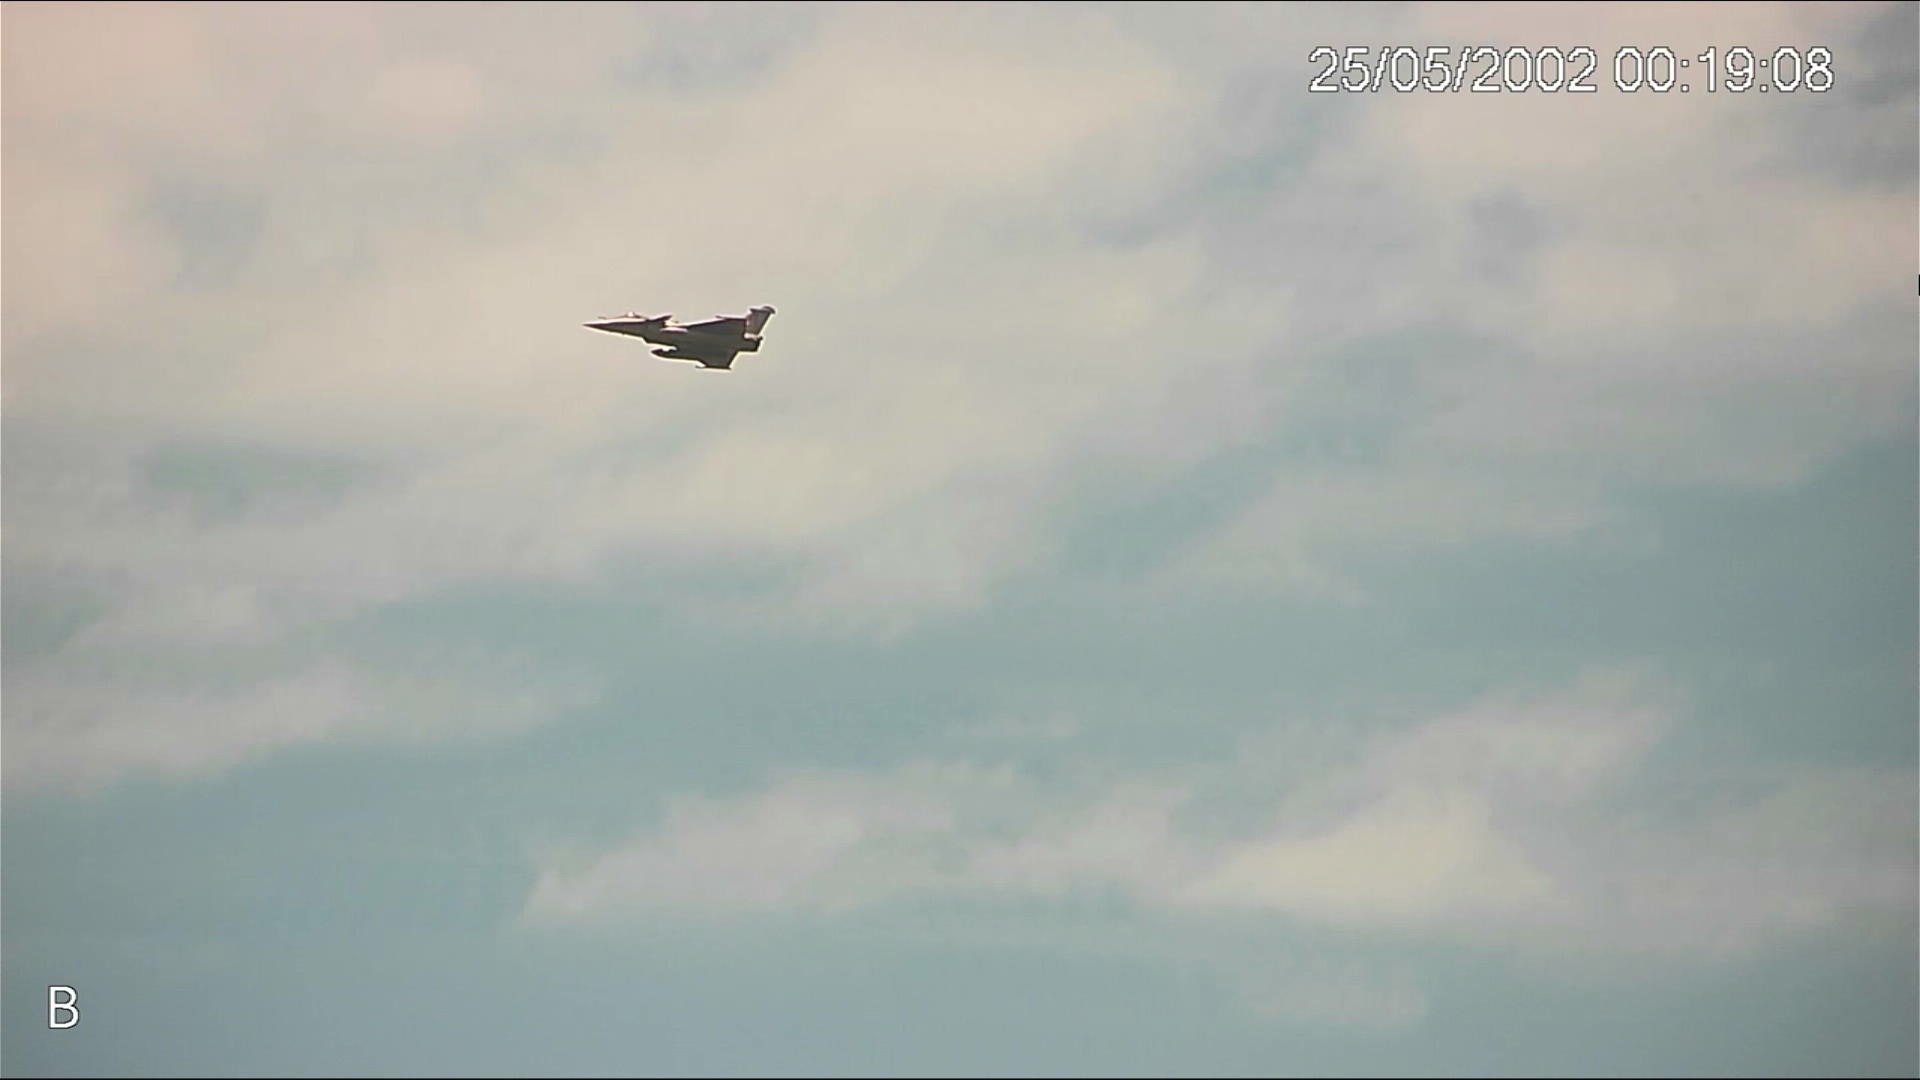SU_30: (582, 302, 782, 382)
